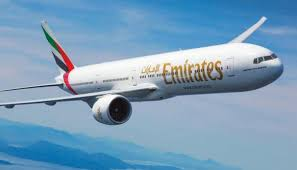maybay_dansu: (8, 17, 282, 126)
